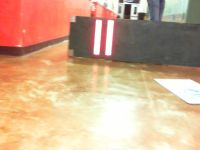switch: (93, 20, 102, 56), (105, 20, 114, 56)
